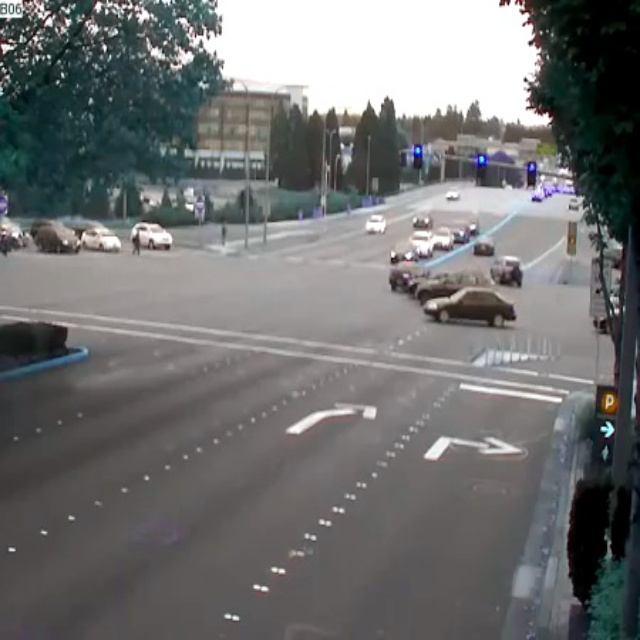acc: (376, 263, 472, 298)
